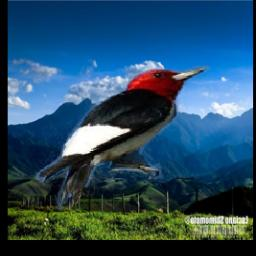Woodpecker: (33, 67, 212, 212)
